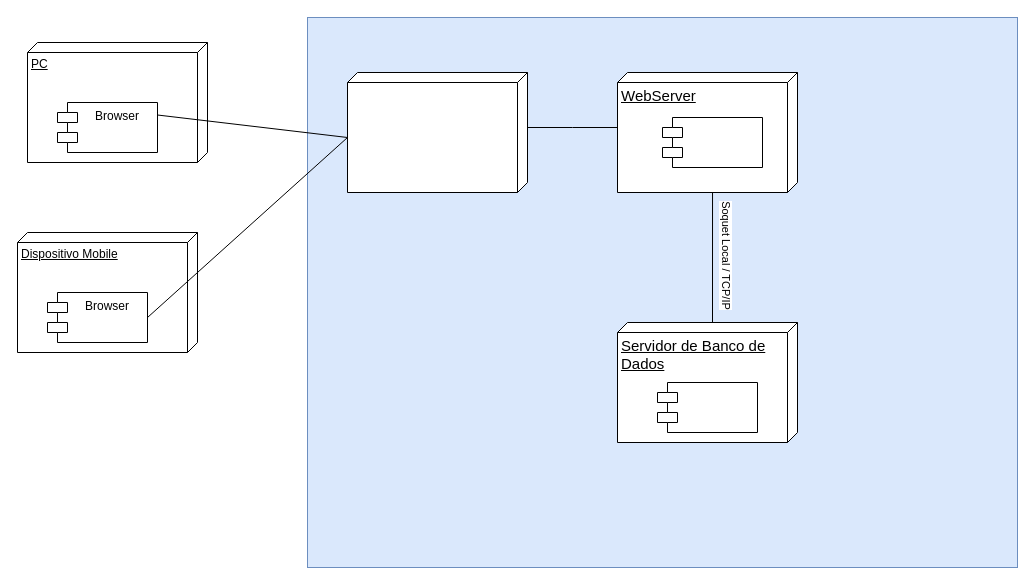
Image size: 1035x585. Some labels were removed from this diagram. Each missing label, with the centre of its shape:
"Apache" goes at (x=712, y=142).
"Firewall" goes at (x=437, y=132).
"MySql" goes at (x=707, y=407).
